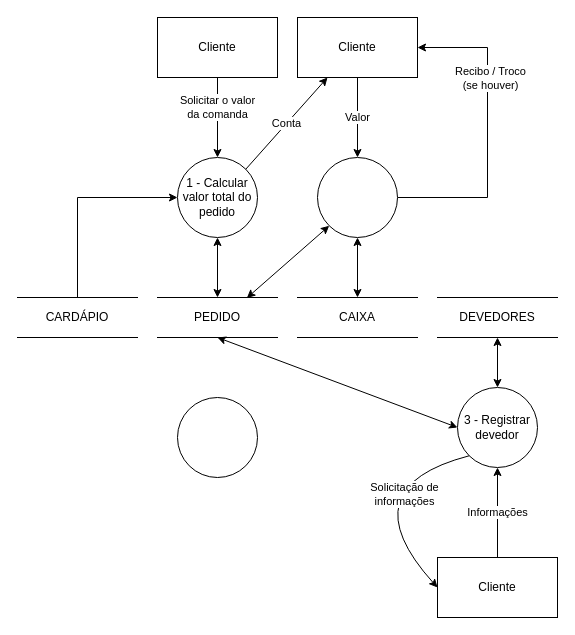
The diagram is 575 pixels wide and 635 high, and some of its shapes have lost their labels. Here are the shapes that lost their labels. From the top down, the centre of each, then its label:
At point (357, 197): "2 - Receber pagamento".
At point (217, 437): "Cobrar Vacilao".
